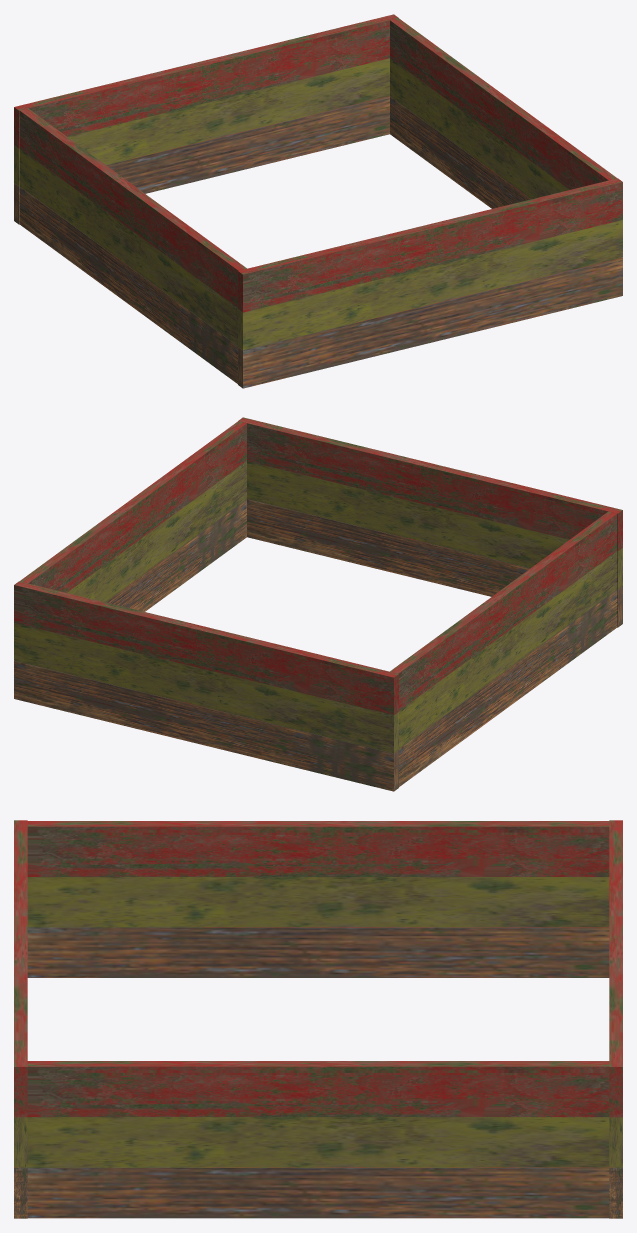
Rendered from playground 3,1.fbx.
The picture shows the model from 3 angles, top to bottom: view 1: azimuth 30°, elevation 25°; view 2: azimuth 150°, elevation 25°; view 3: azimuth 270°, elevation 25°; orthographic projection. The views are drawn at different scales.
Visible parts, largest first — view 1: Cube.025; view 2: Cube.025; view 3: Cube.025.
Boxes of the visible parts, left/top/right/bottom form: Cube.025: left=14, top=14, right=622, bottom=388; Cube.025: left=14, top=417, right=622, bottom=791; Cube.025: left=14, top=820, right=622, bottom=1218.
Bounding box in the file's own units: 201 × 57.62 × 210.
